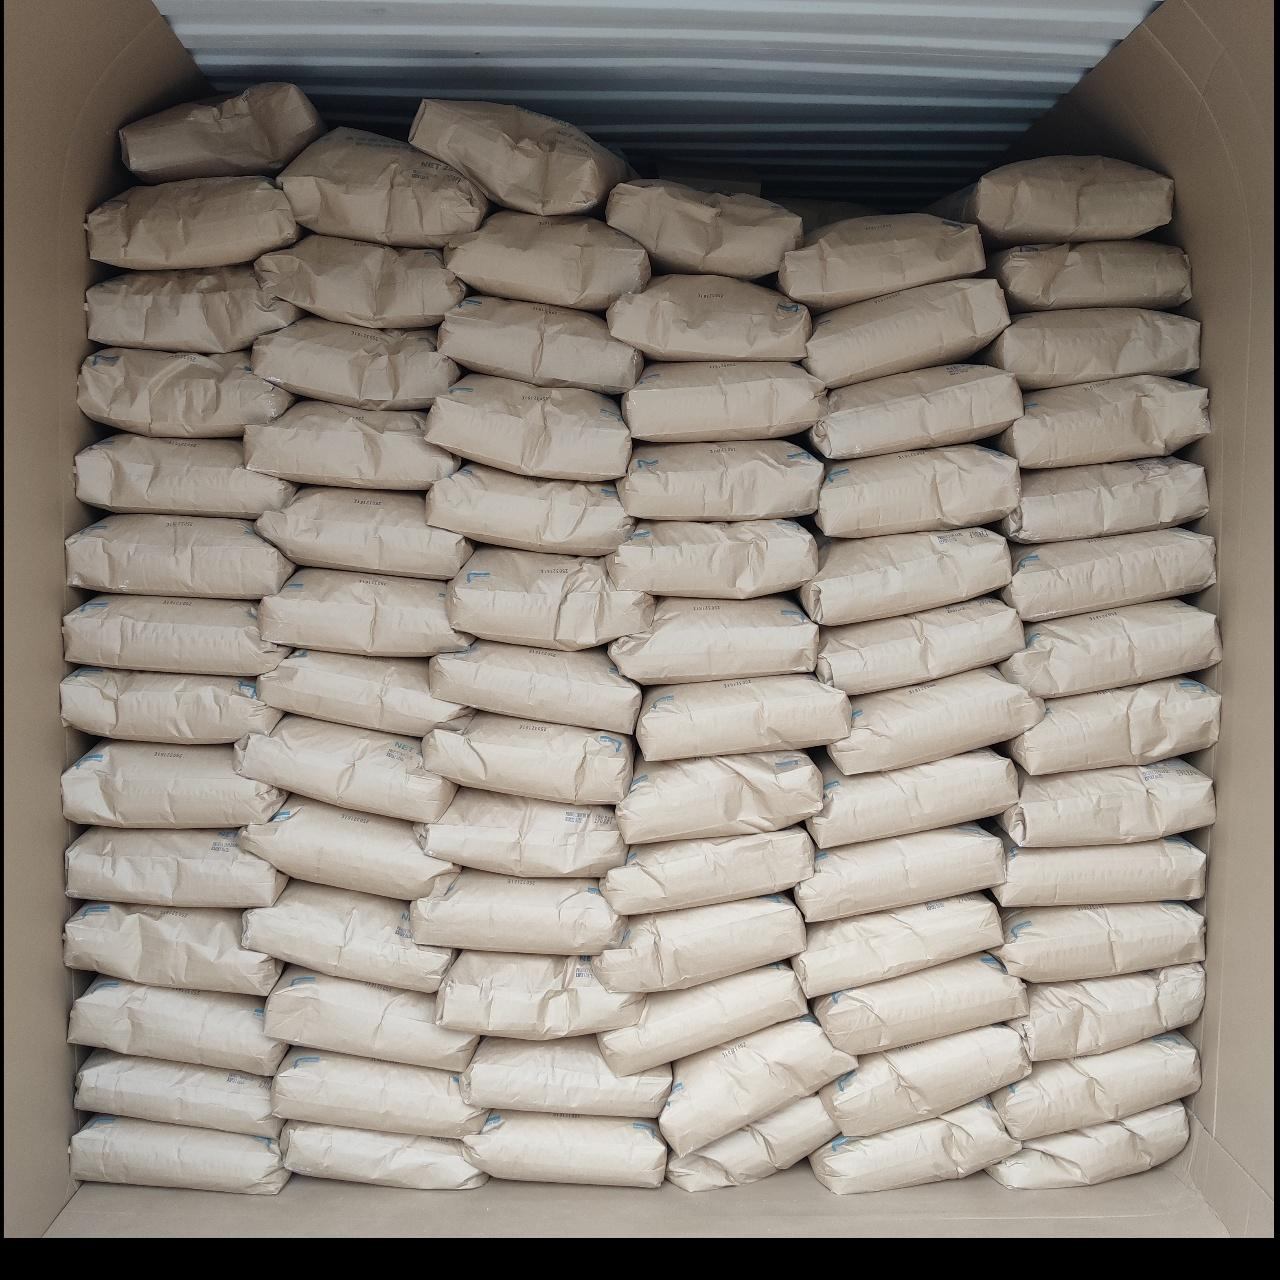sack: (660, 1016, 855, 1150), (275, 128, 488, 246), (410, 100, 628, 215), (241, 881, 454, 990), (236, 716, 454, 822), (822, 1026, 1030, 1133), (828, 668, 1040, 774), (238, 796, 456, 898), (266, 966, 476, 1070), (600, 964, 804, 1070), (794, 894, 1002, 998), (934, 156, 1172, 246), (804, 280, 1006, 386), (1002, 600, 1220, 696), (994, 1032, 1198, 1133), (813, 954, 1022, 1054), (428, 376, 629, 478), (1006, 678, 1218, 774), (72, 976, 284, 1073), (448, 546, 652, 646), (66, 903, 280, 996), (808, 750, 1016, 846), (594, 896, 804, 990), (120, 84, 324, 182), (816, 598, 1022, 694), (1002, 527, 1214, 620), (796, 824, 1005, 918), (445, 212, 648, 308), (88, 178, 302, 268), (256, 488, 470, 578), (799, 530, 1008, 622), (606, 181, 804, 278), (779, 215, 982, 309), (424, 712, 632, 804), (810, 365, 1020, 456), (438, 297, 642, 390), (64, 740, 284, 826), (430, 640, 638, 731), (810, 1098, 1017, 1190), (79, 348, 294, 436), (256, 234, 462, 326), (998, 760, 1214, 846), (996, 377, 1206, 467), (246, 400, 458, 488), (68, 515, 292, 598), (602, 826, 812, 914), (76, 434, 294, 518), (1012, 964, 1201, 1060), (428, 464, 629, 554), (618, 753, 822, 842), (274, 1048, 486, 1133), (252, 318, 458, 406), (88, 266, 302, 350), (612, 595, 813, 685), (418, 788, 622, 876), (816, 445, 1016, 535), (411, 870, 622, 954), (260, 570, 470, 654), (64, 594, 286, 674), (438, 952, 640, 1039), (260, 651, 470, 734), (638, 676, 847, 758), (68, 828, 286, 906), (1002, 458, 1206, 542), (982, 309, 1198, 388), (76, 1051, 278, 1133), (610, 275, 810, 358), (462, 1036, 668, 1116), (72, 1116, 286, 1192), (990, 1104, 1186, 1186), (618, 440, 822, 518), (62, 668, 278, 742), (608, 520, 813, 598), (994, 904, 1201, 980), (668, 1096, 836, 1190), (622, 362, 822, 438), (464, 1112, 663, 1186), (994, 838, 1204, 906), (992, 240, 1190, 309), (280, 1122, 484, 1189)
